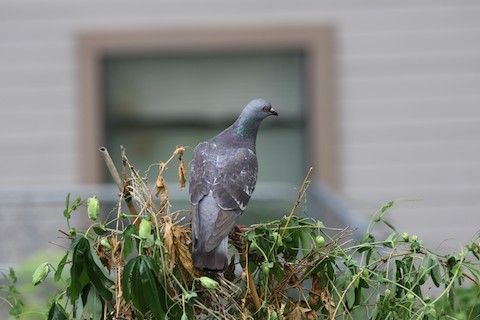pigeon: (175, 89, 285, 274)
